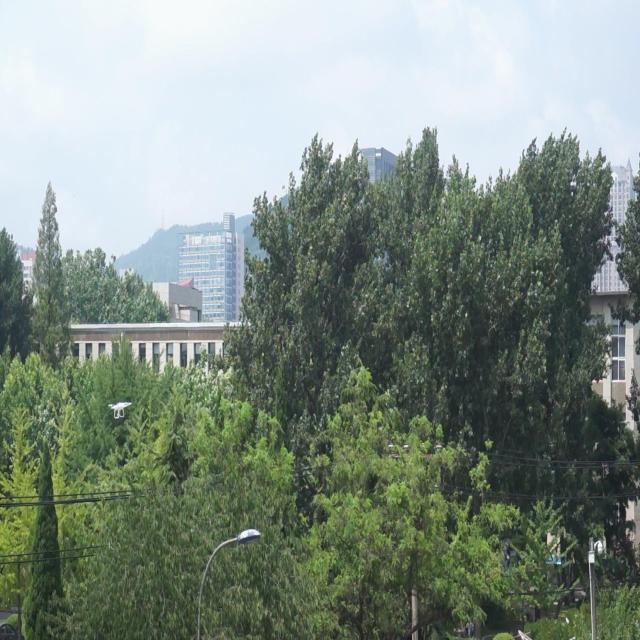drone: (107, 398, 133, 420)
